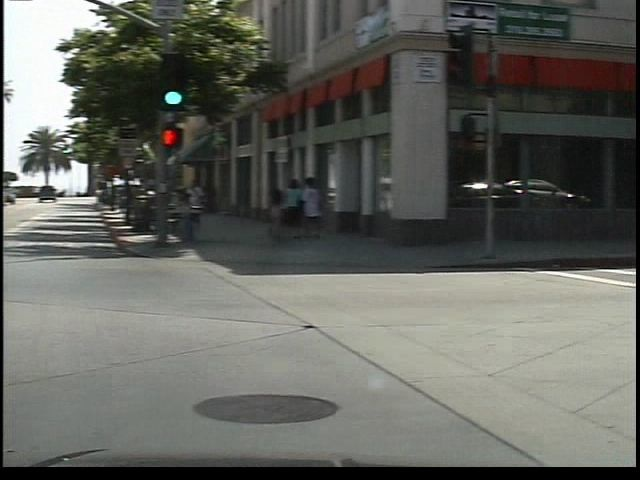person: (196, 172, 223, 238)
